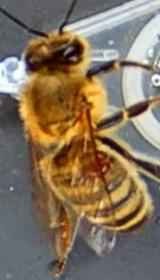varroa_mite: (85, 148, 116, 182)
